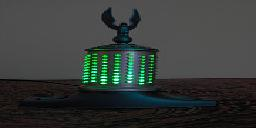LED: (80, 51, 156, 87)
